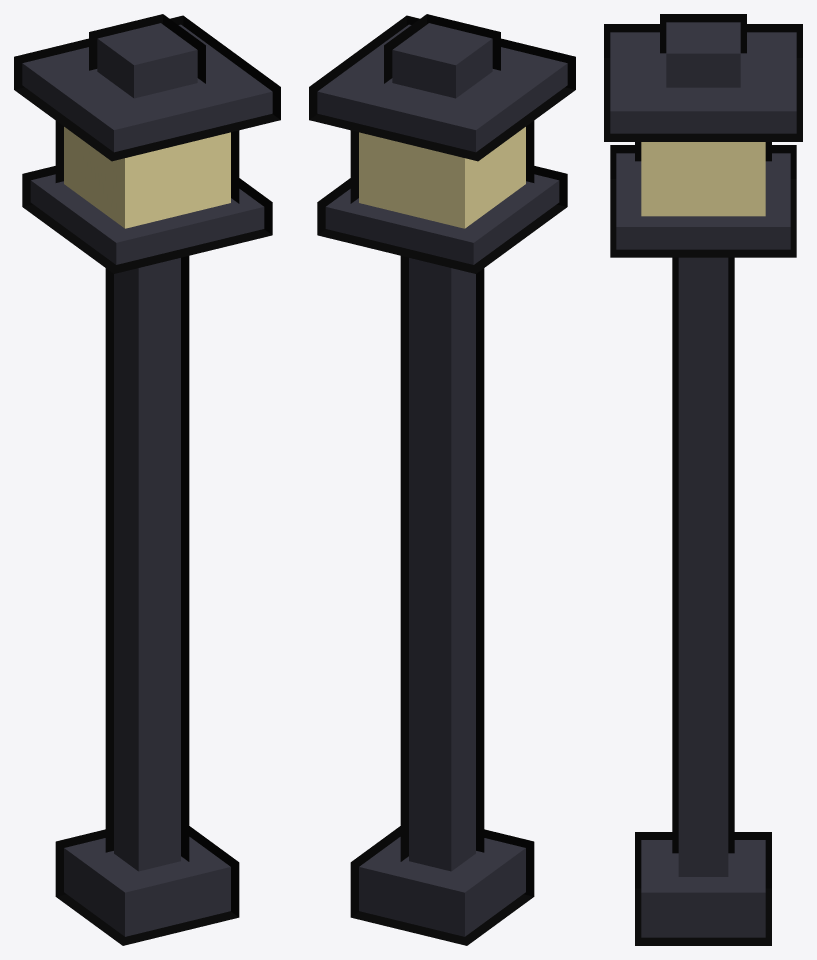
File: Lamp.fbx
3 views of the same model, side by side, from view 1: azimuth 30°, elevation 25°; view 2: azimuth 150°, elevation 25°; view 3: azimuth 270°, elevation 25° (orthographic).
Parts seen in each view (by area): view 1: Lamp_Metal, Lamp_Outline, Lamp_Bulb; view 2: Lamp_Metal, Lamp_Outline, Lamp_Bulb; view 3: Lamp_Metal, Lamp_Outline, Lamp_Bulb.
Boxes of the visible parts, x1,y1,x2,y2 form: Lamp_Metal: (22,23,272,936); Lamp_Outline: (14,14,280,945); Lamp_Bulb: (64,127,230,228); Lamp_Metal: (317,23,567,936); Lamp_Outline: (309,14,575,945); Lamp_Bulb: (359,127,525,228); Lamp_Metal: (610,22,796,937); Lamp_Outline: (604,14,802,945); Lamp_Bulb: (641,142,765,216).
Bounding box in the file's own units: 3.2 × 15.7 × 3.2.
Materials: 3 (3 with a texture image).
